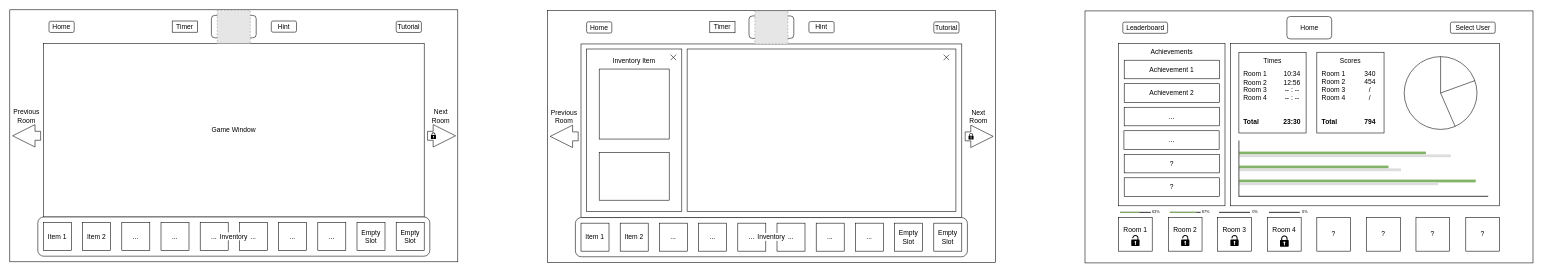
Image size: 1543x273. Some labels were removed from this diagram. Grey dashed boxes stand in for pictures. Each missing label, with the box of its shape:
Item: (599, 68, 669, 139)
Item Information: (599, 152, 669, 200)
Puzzle/Riddle/Minigame: (687, 48, 956, 211)
